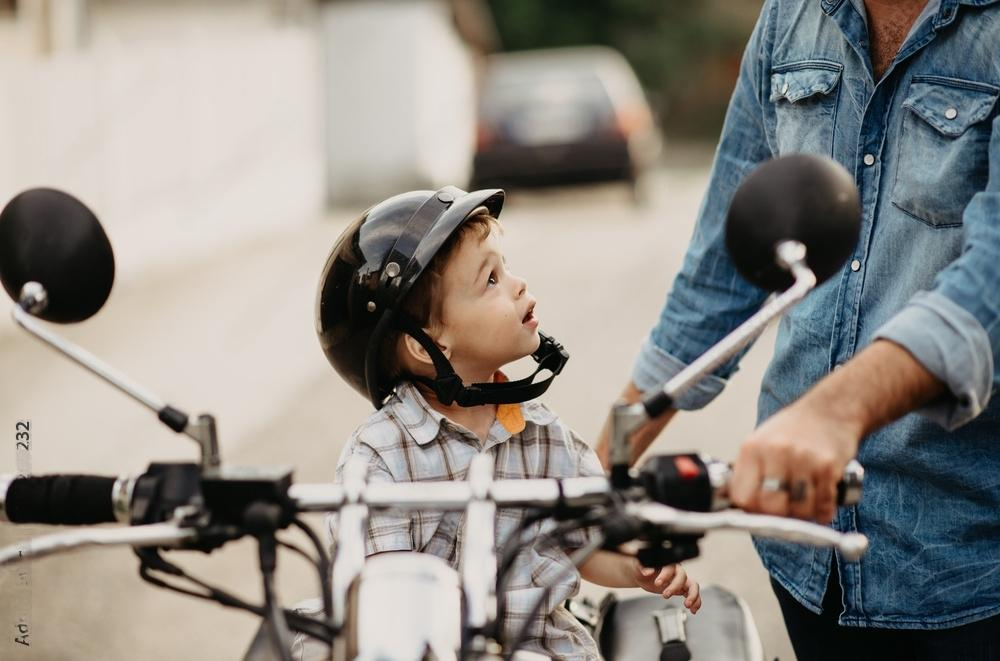helmet: (312, 183, 571, 409)
